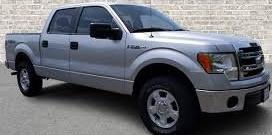Trucks: (5, 3, 269, 134)
